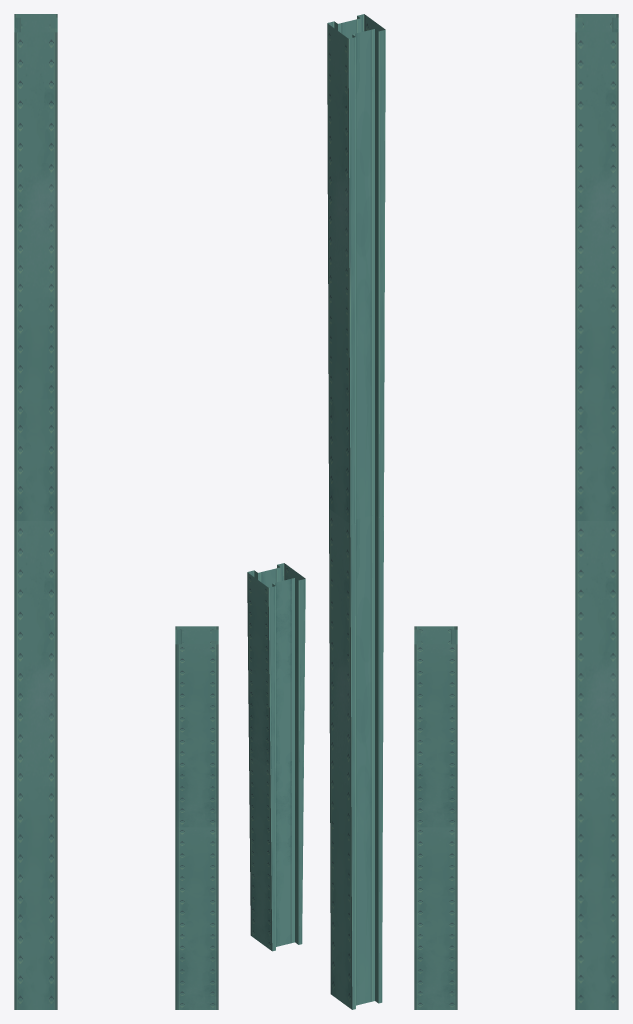
Rendered from Collumns.fbx.
3 renders of one model, left to right at view 1: azimuth 90°, elevation 25°; view 2: azimuth 210°, elevation 25°; view 3: azimuth 270°, elevation 25°, orthographic.
Parts seen in each view (by area): view 1: SingleColumn.004, SingleColumn; view 2: SingleColumn.004, SingleColumn; view 3: SingleColumn.004, SingleColumn.
Boxes of the visible parts, x1,y1,x2,y2 form: SingleColumn.004: [14, 14, 57, 1009]; SingleColumn: [175, 626, 218, 1009]; SingleColumn.004: [327, 14, 385, 1009]; SingleColumn: [247, 563, 305, 951]; SingleColumn.004: [575, 14, 618, 1009]; SingleColumn: [414, 626, 457, 1009].
Bounding box in the file's own units: 80 × 2000 × 378.
